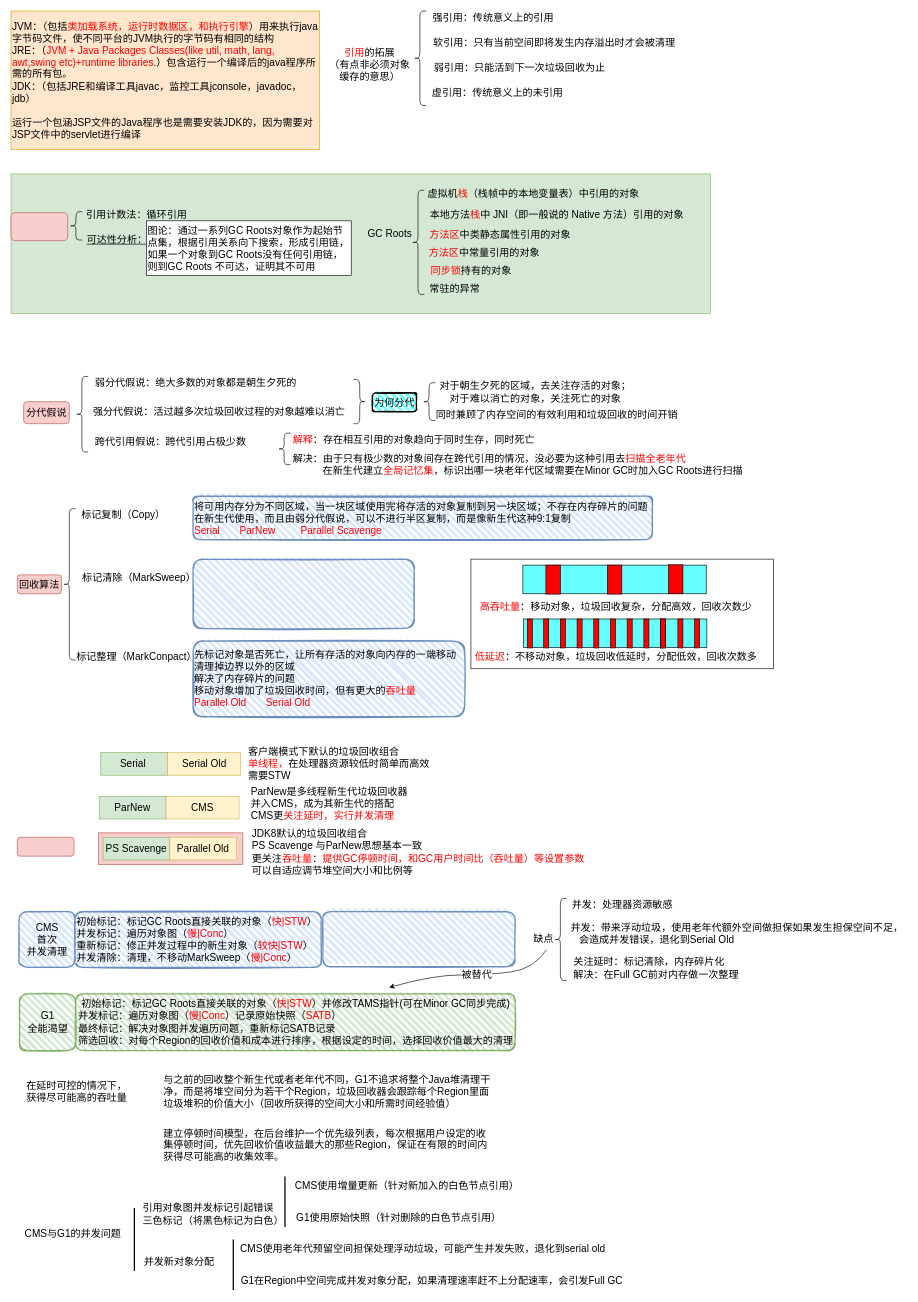
Some shapes in this 918 by 1302 pixel diagram are drawn without their labels. Here are the shapes that lost their labels. From the top down, the centre of each, then its label:
At pixel 39 226: "对象已死？".
At pixel 303 593: "先标记对象是否死亡，再对对象进行清除 执行效率不稳定：受对象与垃圾比例影响 内存碎片化问题：可能导致提前进行下一次垃圾回收 CMS(其实CMS是和稀泥的)".
At pixel 45 846: "回收器JDK8".
At pixel 418 939: "明显的 低延迟 设计 1.标记清除，不压缩，减少垃圾回收时间 2.对于耗时的清理操作采取 并发 执行".
